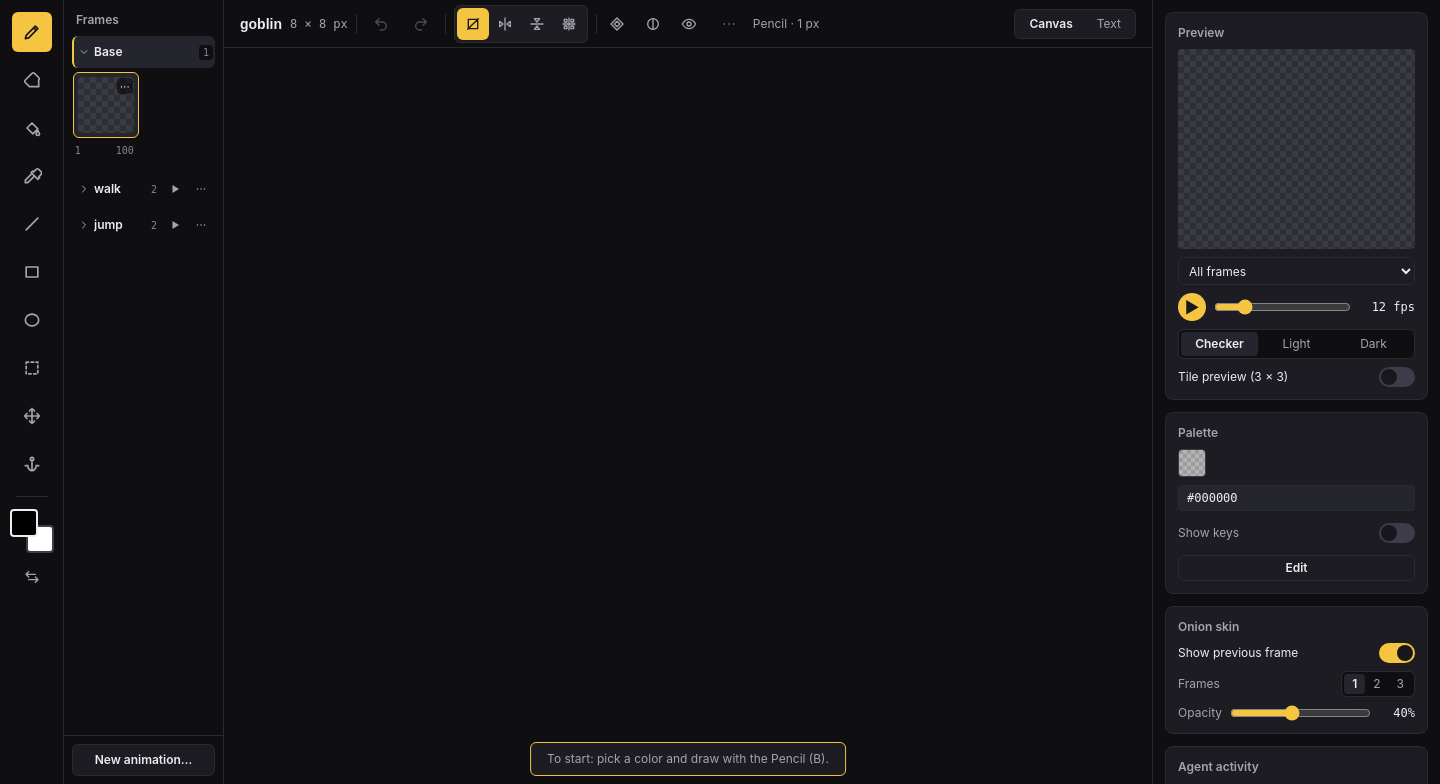
it: New animation › shows an error for a repeated name and does not create
Expected: the element "walk" is shown, [72,173,215,205]
Click the button "New animation…" at [144, 760], box [72,744,215,776]
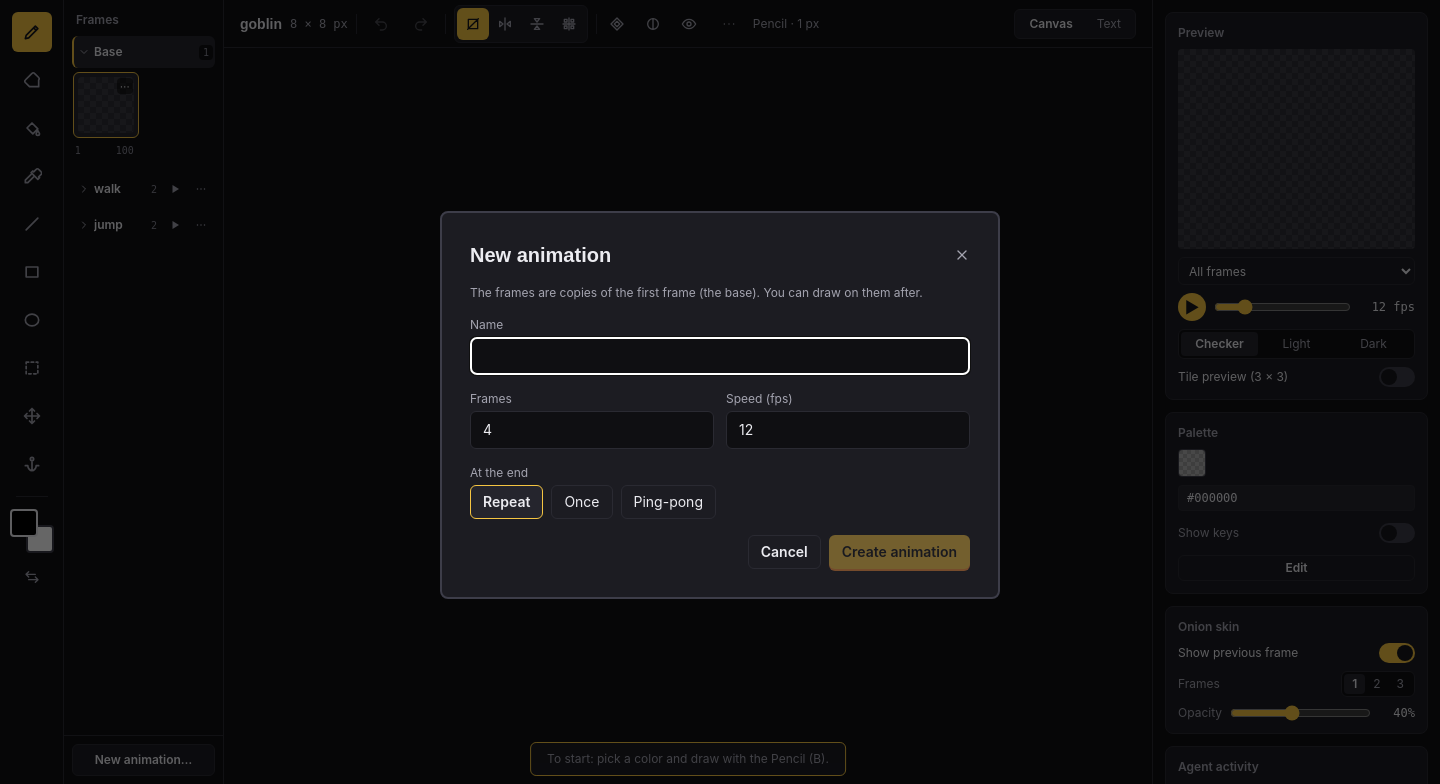
Type "WALK" into the field labelled "Name" at [720, 356], box [470,337,970,375]
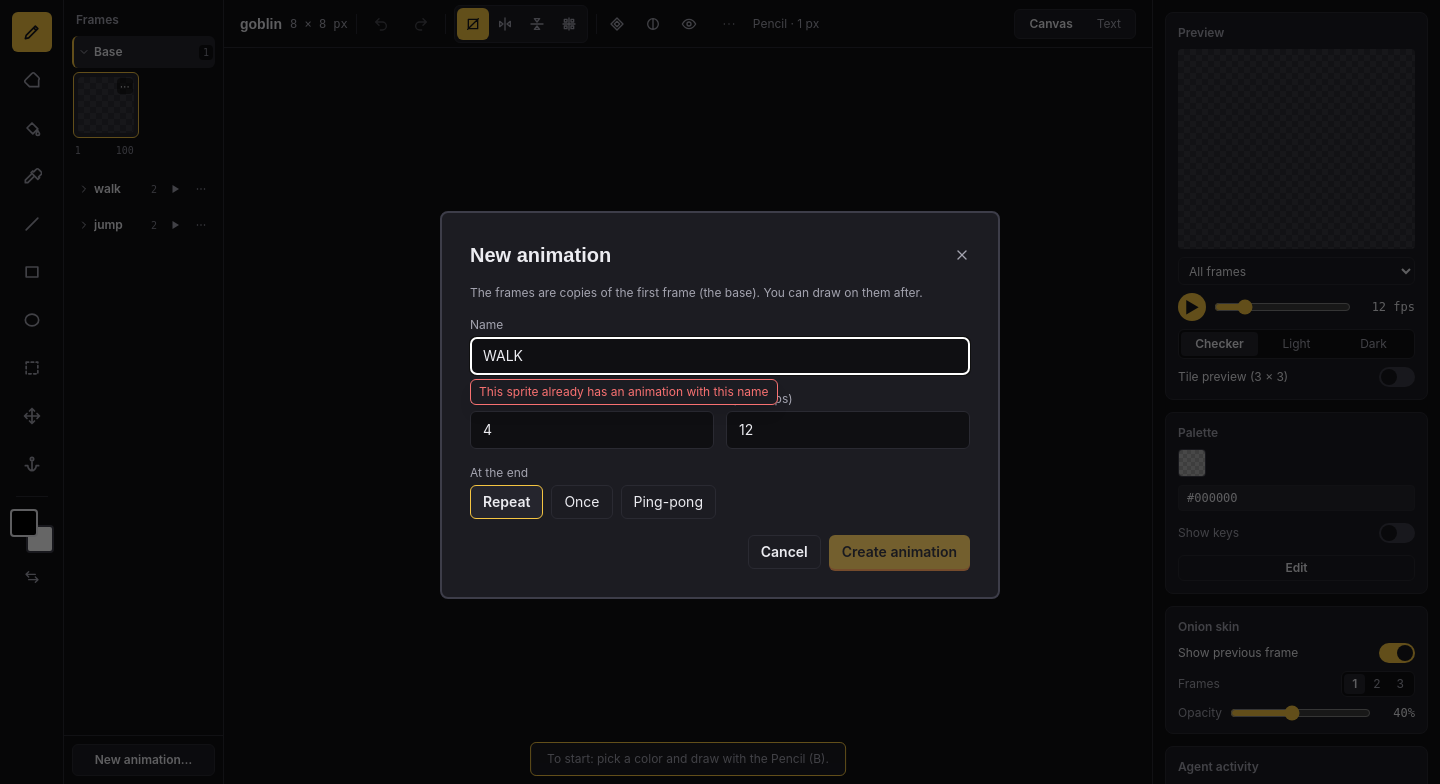
Expected: the button "Create animation" is disabled, [829,535,970,569]
Expected: the text "This sprite already has an animation with this name" is shown, [470,379,778,405]
